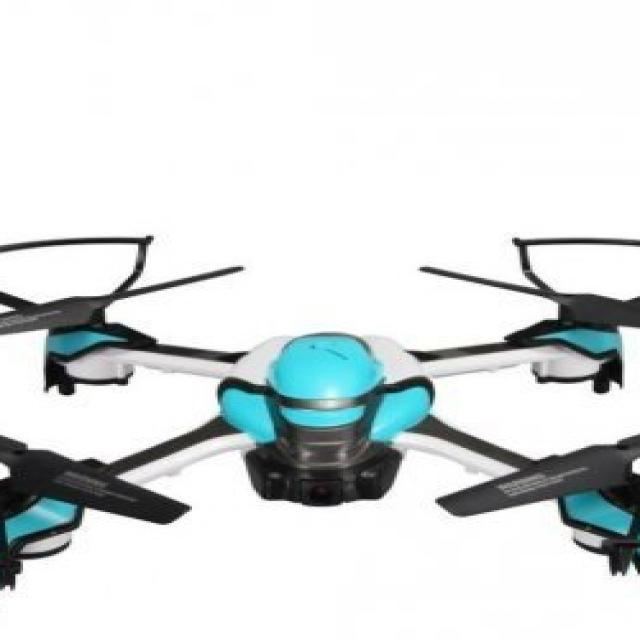drone: (0, 203, 640, 636)
